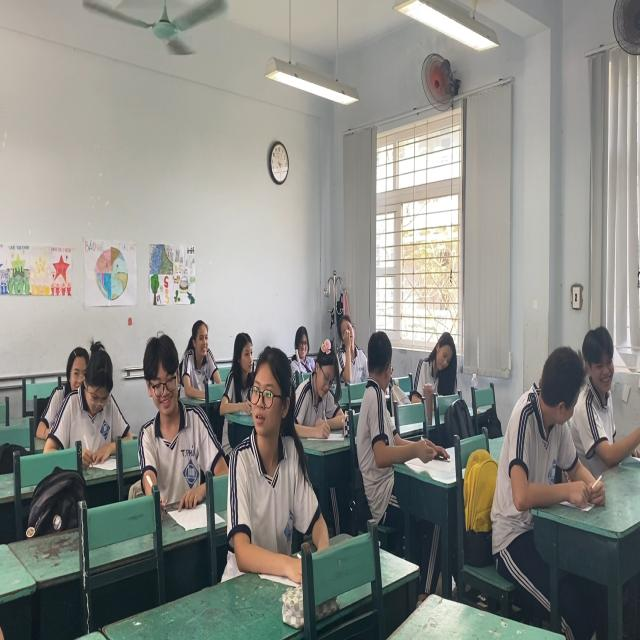cheating: (222, 326, 312, 568), (502, 343, 586, 523), (576, 326, 637, 460), (356, 330, 406, 464)
not_cheating: (131, 330, 212, 502), (55, 333, 133, 450), (294, 330, 350, 443), (411, 319, 465, 388), (185, 316, 220, 388), (329, 315, 362, 364)
